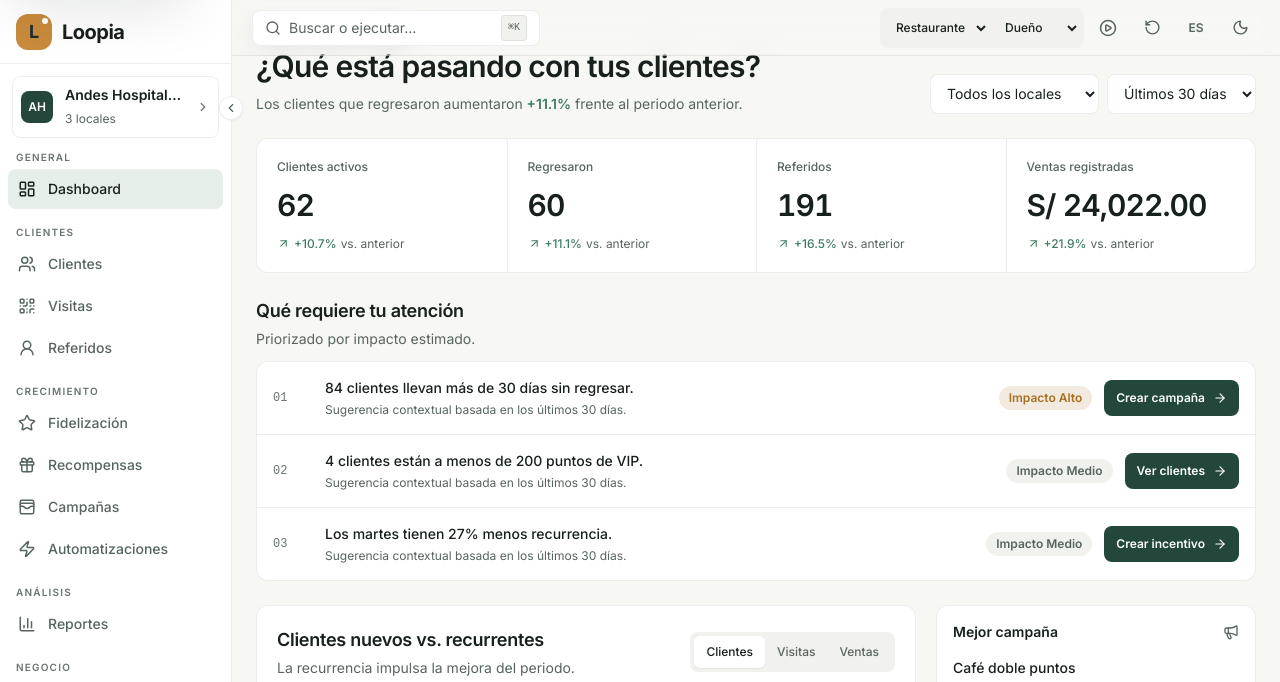
Test case: demo admin can switch business scenario
(page scrolled)
Select "Bar" in the dropdown named "Escenario demo": (936, 28) [884,12,989,44]
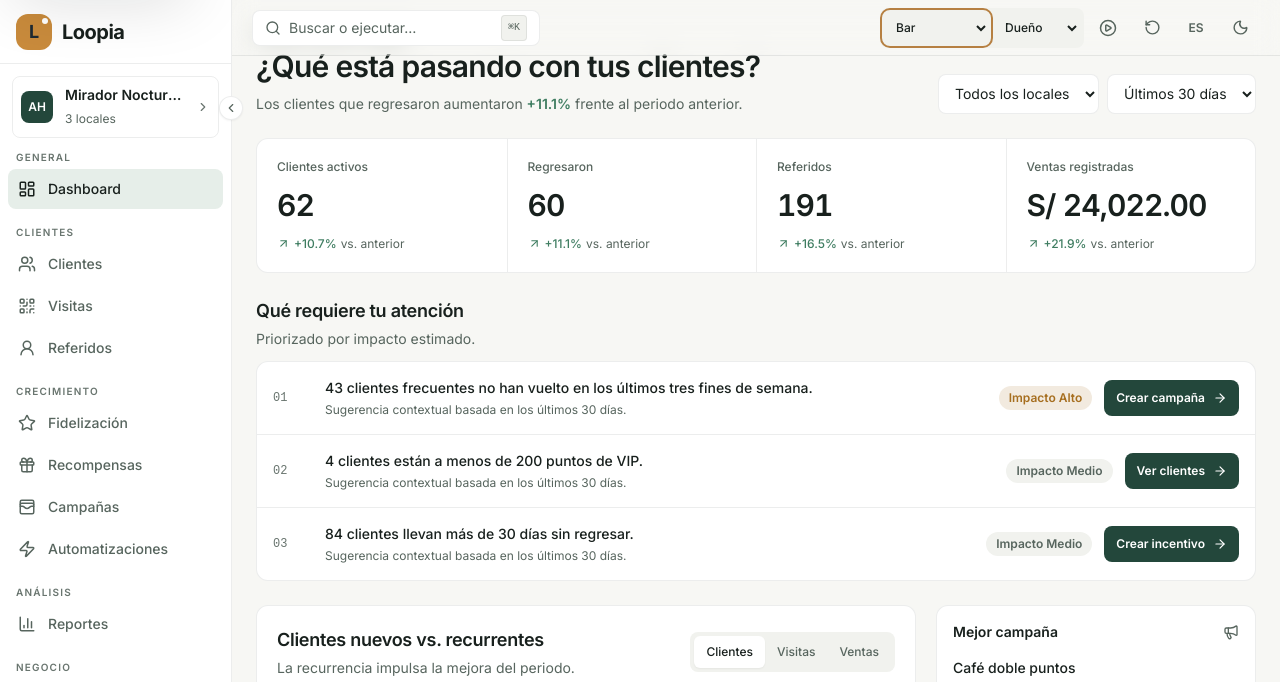
Expected: the text "Mirador Nocturno" is shown, [65,85,184,105]
